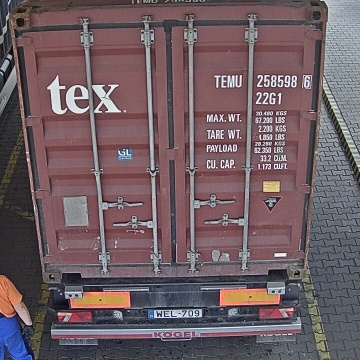serial_id: (214, 74, 311, 87)
